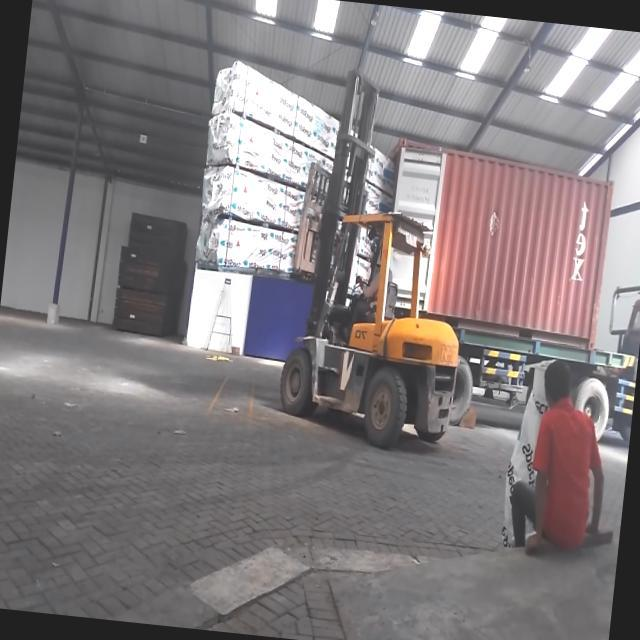forklift: (272, 188, 476, 457)
person: (506, 361, 614, 557)
